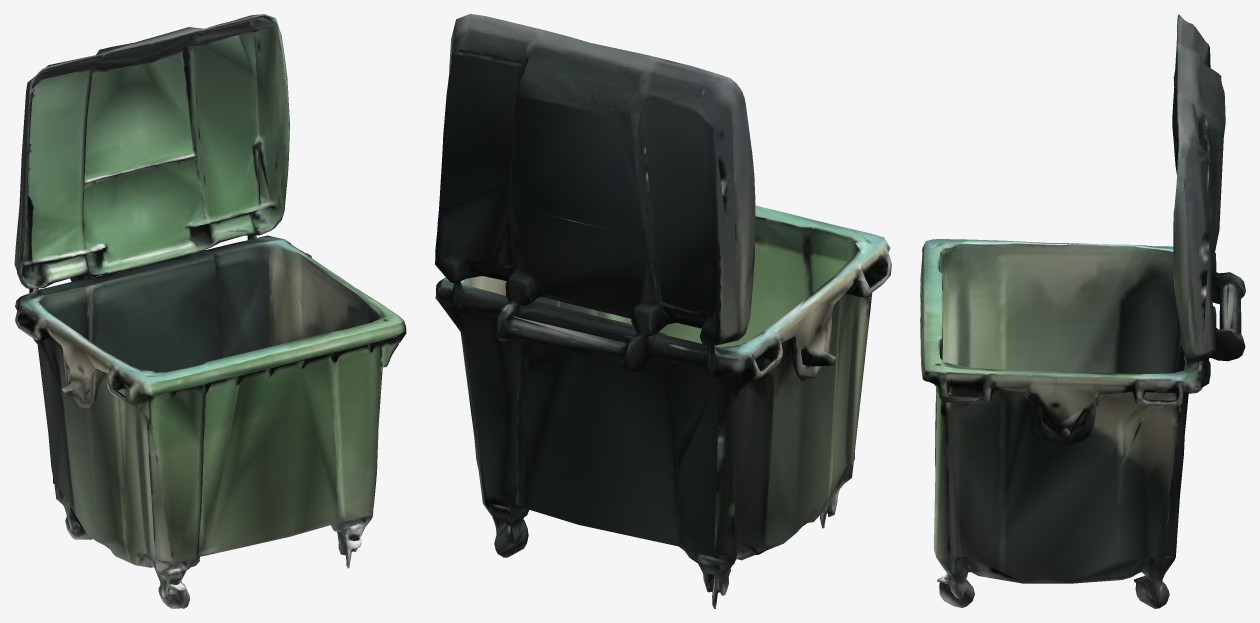
File: trash_bin.glb
3 renders of one model, left to right at view 1: azimuth 30°, elevation 25°; view 2: azimuth 150°, elevation 25°; view 3: azimuth 270°, elevation 25°, orthographic. The views are drawn at different scales.
Visible parts, largest first — view 1: tripo_node_a9e8fbd7; view 2: tripo_node_a9e8fbd7; view 3: tripo_node_a9e8fbd7.
Part boxes in pixels (<box>): tripo_node_a9e8fbd7: <box>14,14,406,608</box>; tripo_node_a9e8fbd7: <box>435,14,891,608</box>; tripo_node_a9e8fbd7: <box>920,14,1245,608</box>.
Size of the model in its own units: 0.6399 by 0.9778 by 0.5851.
Materials: 1 (1 with a texture image).
